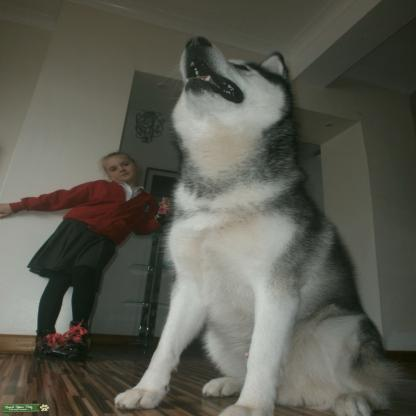dog: (113, 35, 408, 416)
